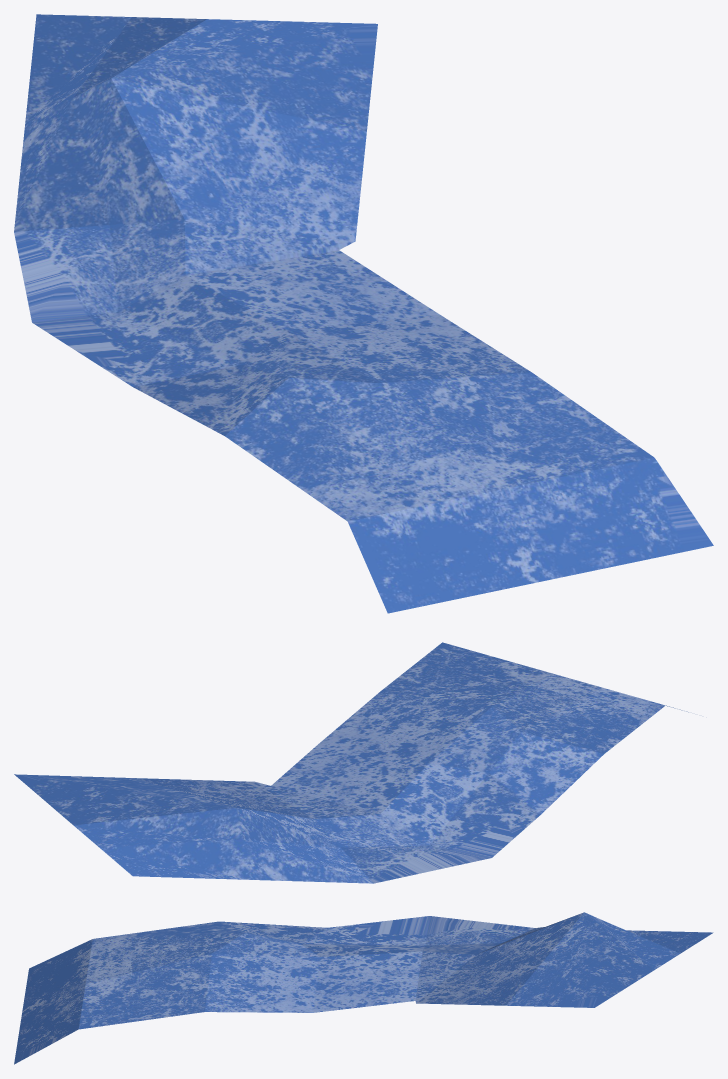
Rendered from Rio.fbx.
3 views of the same model, one above another, from view 1: azimuth 30°, elevation 25°; view 2: azimuth 150°, elevation 25°; view 3: azimuth 270°, elevation 25° (orthographic). The views are drawn at different scales.
Parts seen in each view (by area): view 1: Plane; view 2: Plane; view 3: Plane.
Part boxes in pixels (<box>): Plane: <box>14,14,713,613</box>; Plane: <box>14,642,688,883</box>; Plane: <box>14,912,713,1064</box>.
Size of the model in its own units: 1287 by 440 by 2604.
